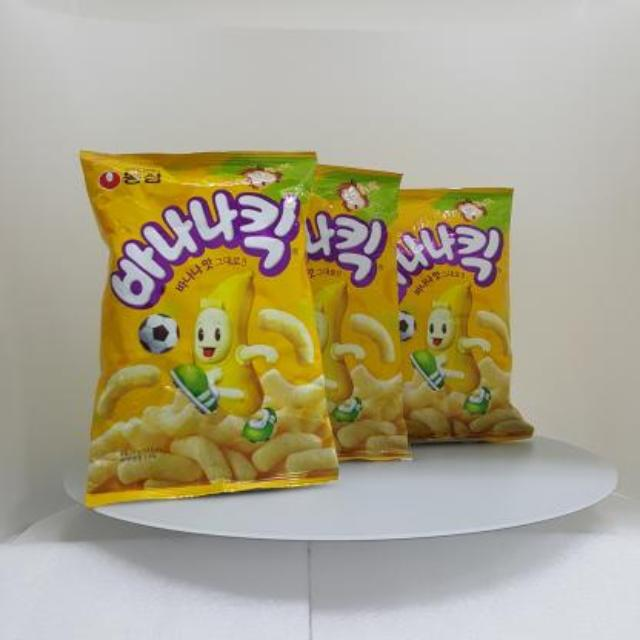snack_bag: (70, 137, 564, 517)
